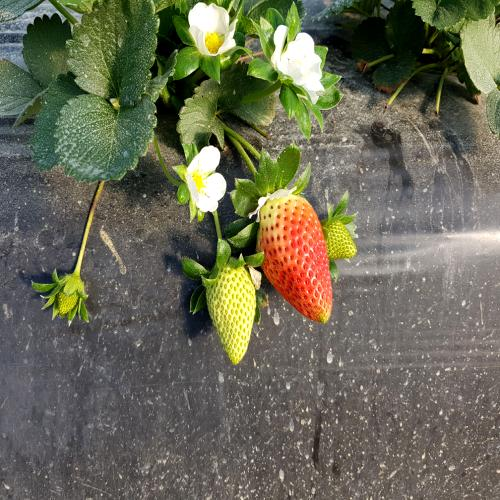partially-ripe: (256, 186, 336, 357)
